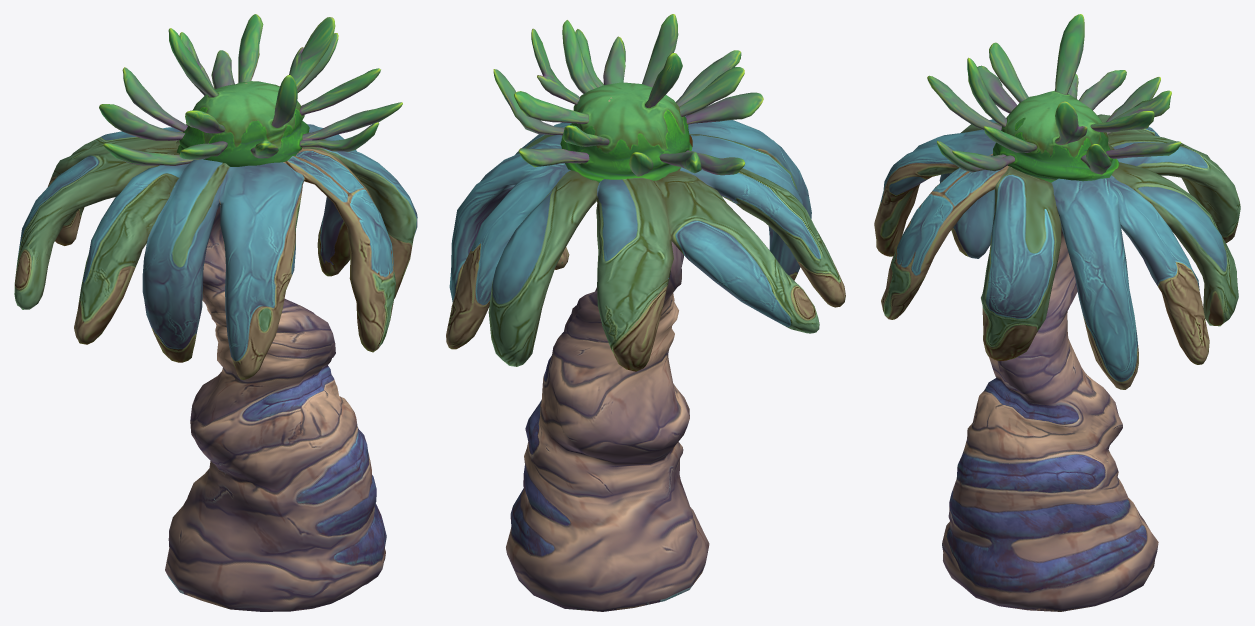
The model's file is VegetationMedium03_02.fbx.
3 renders of one model, left to right at view 1: azimuth 30°, elevation 25°; view 2: azimuth 150°, elevation 25°; view 3: azimuth 270°, elevation 25°, orthographic. The views are drawn at different scales.
Visible parts, largest first — view 1: VegetationMedium03_02_LOD00; view 2: VegetationMedium03_02_LOD00; view 3: VegetationMedium03_02_LOD00.
Boxes of the visible parts, x1,y1,x2,y2 form: VegetationMedium03_02_LOD00: (14, 14, 417, 611); VegetationMedium03_02_LOD00: (446, 14, 845, 611); VegetationMedium03_02_LOD00: (874, 14, 1240, 611).
Size of what is drawn, in the model's own units: 241 by 358 by 227.
